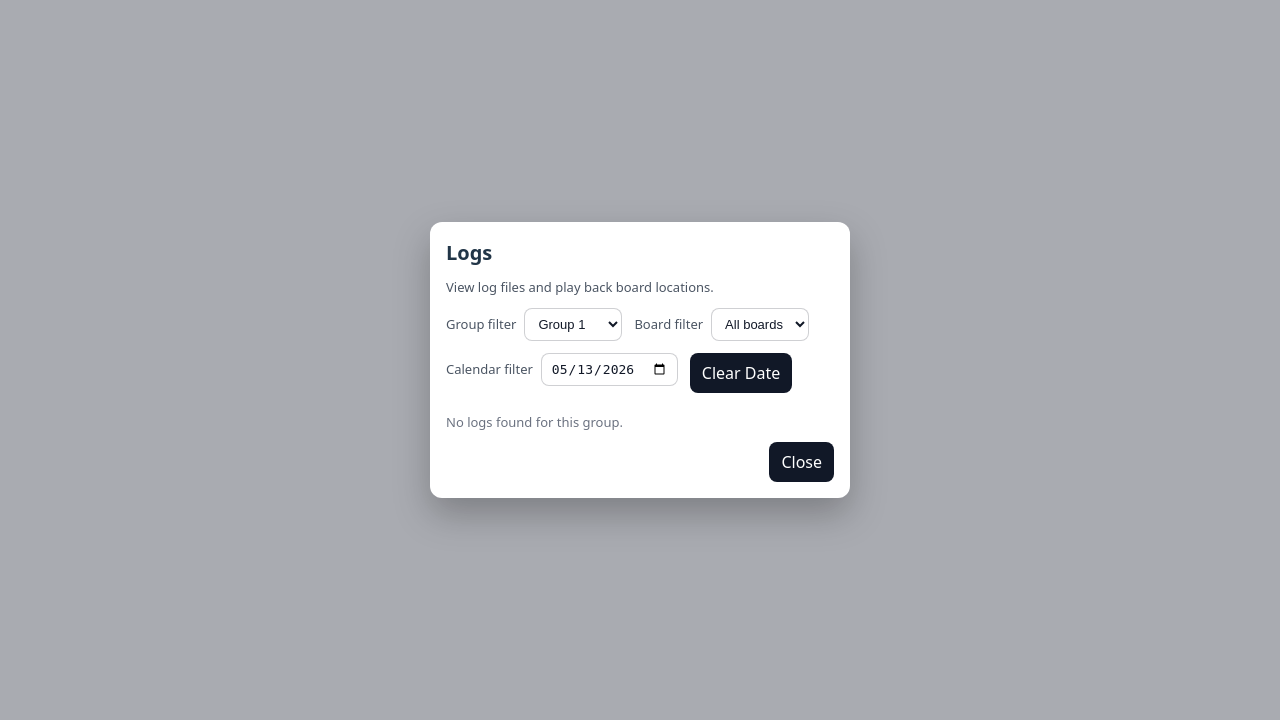
Test case: LogListModal › renders runs and supports board filtering + play
The width and height of the screenshot is (1280, 720).
Note: Ensure the date filter doesn't exclude our hardcoded runs.
Click the button "Clear Date": (741, 372) [690,352,792,392]
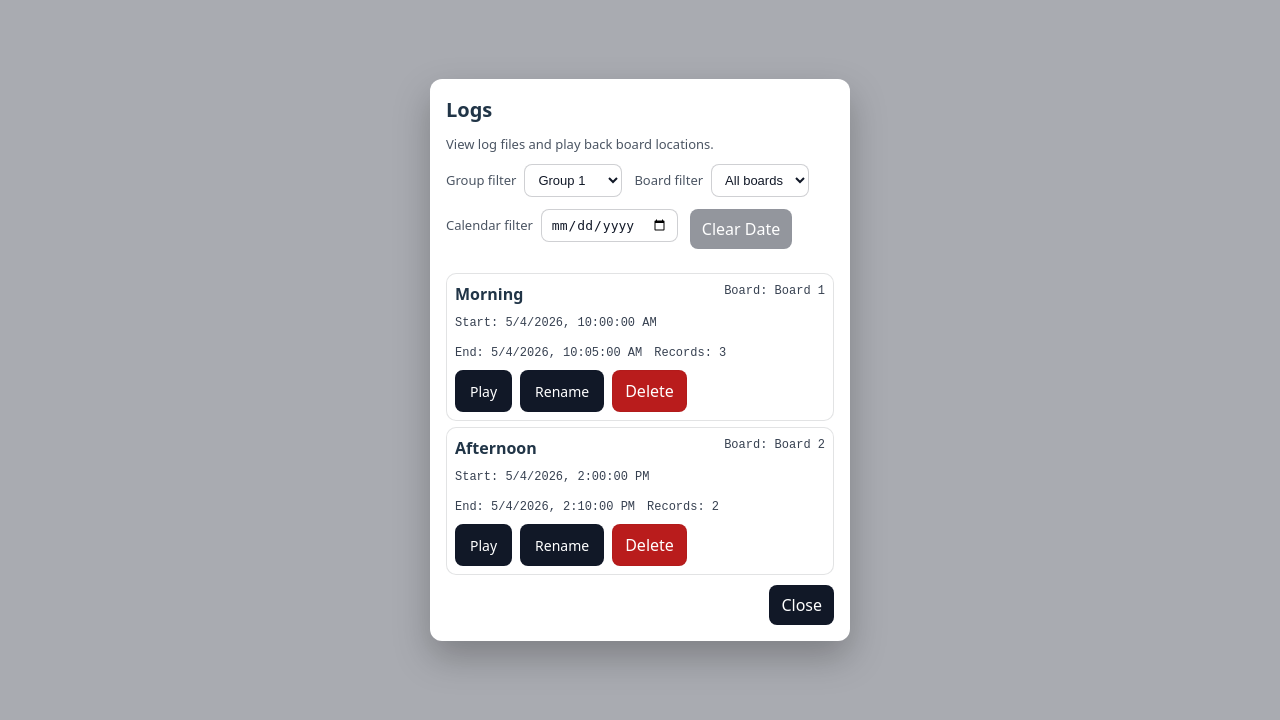
Now the text "Morning" is shown, box [455,282,523,306]
Now the text "Afternoon" is shown, box [455,436,537,460]
Now the text "Start: 5/4/2026, 10:00:00 AM" is shown, box [455,314,657,332]
Note: Board filter should narrow results.
Select "Board 1" in the dropdown labelled "Board filter": (760, 181) [711,164,809,197]
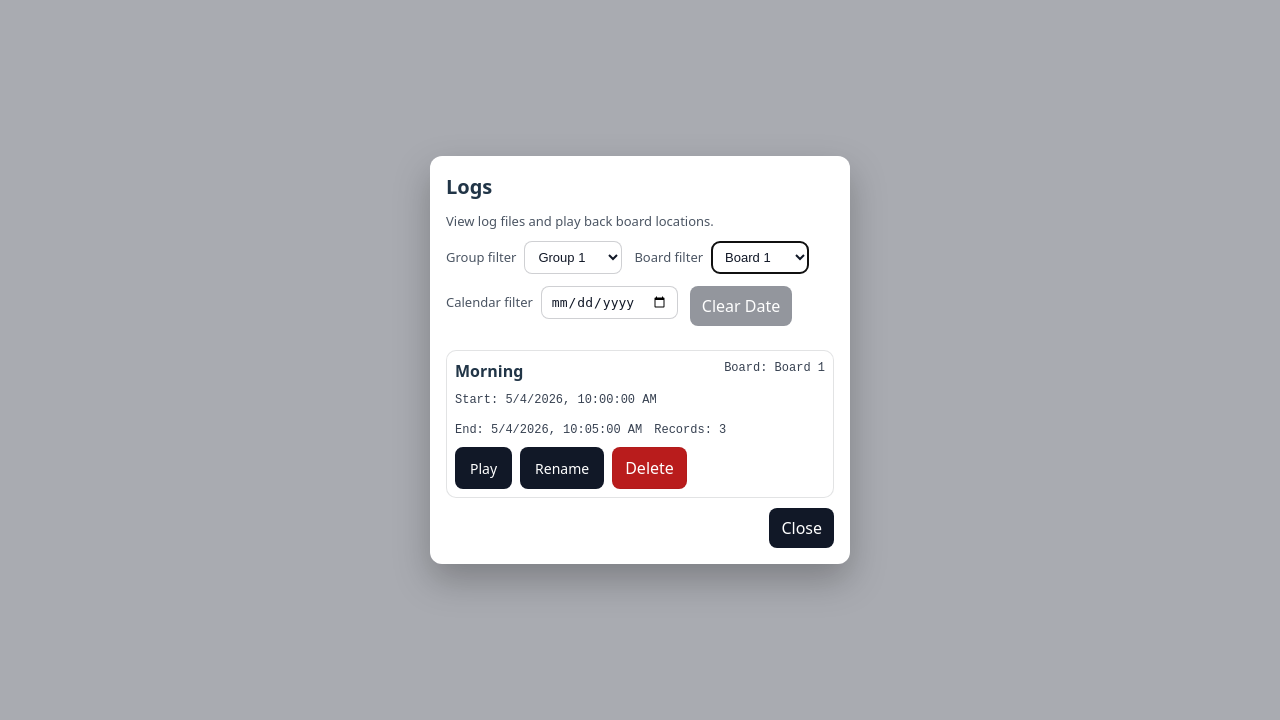
Now the text "Morning" is shown, box [455,359,523,383]
Now the text "Afternoon" is gone
Note: Clicking play should open playback modal.
Click the button "Play": (484, 468) [455,447,512,489]
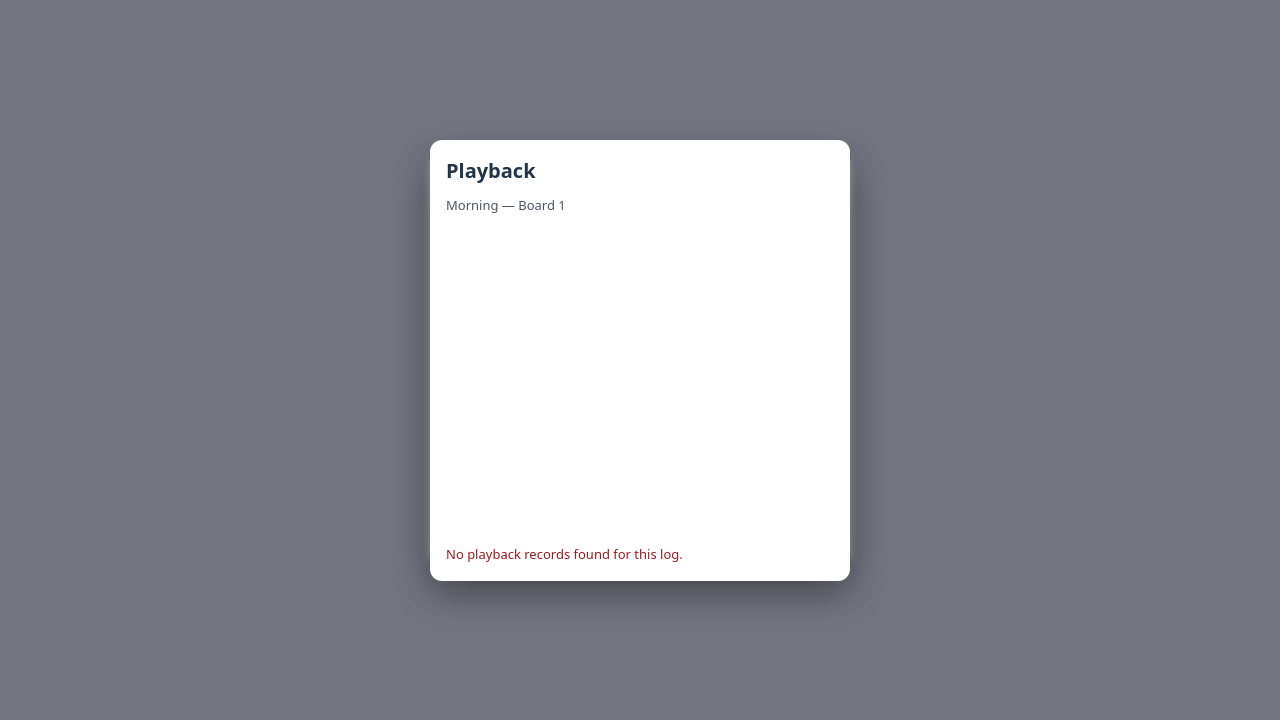
Now the dialog named "log playback" is shown, box [430,140,850,580]
